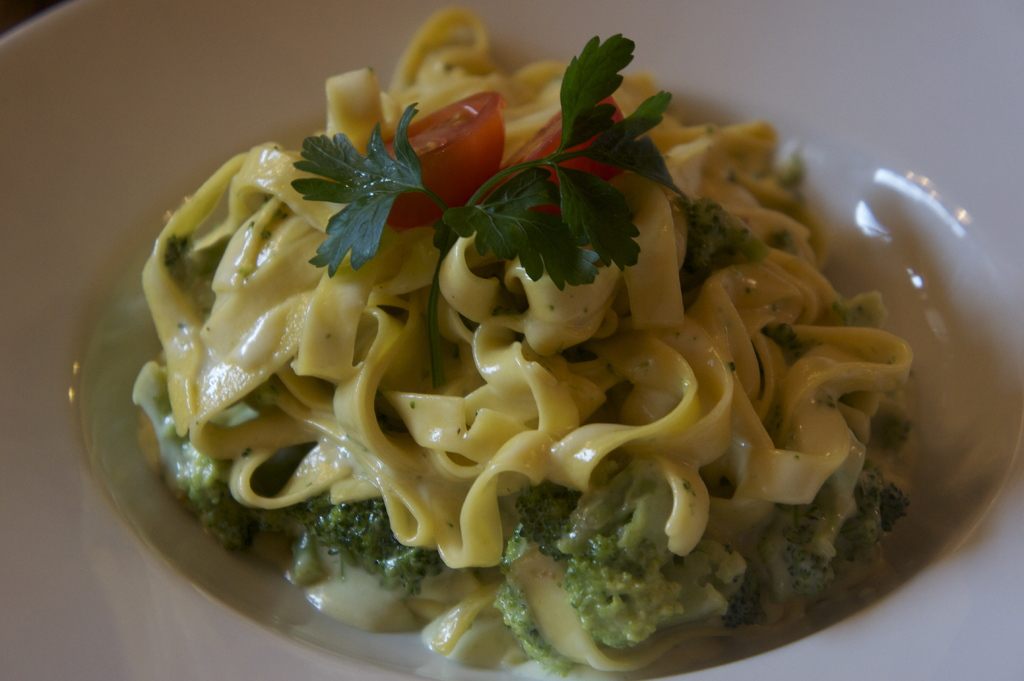pasta: (139, 2, 917, 673)
